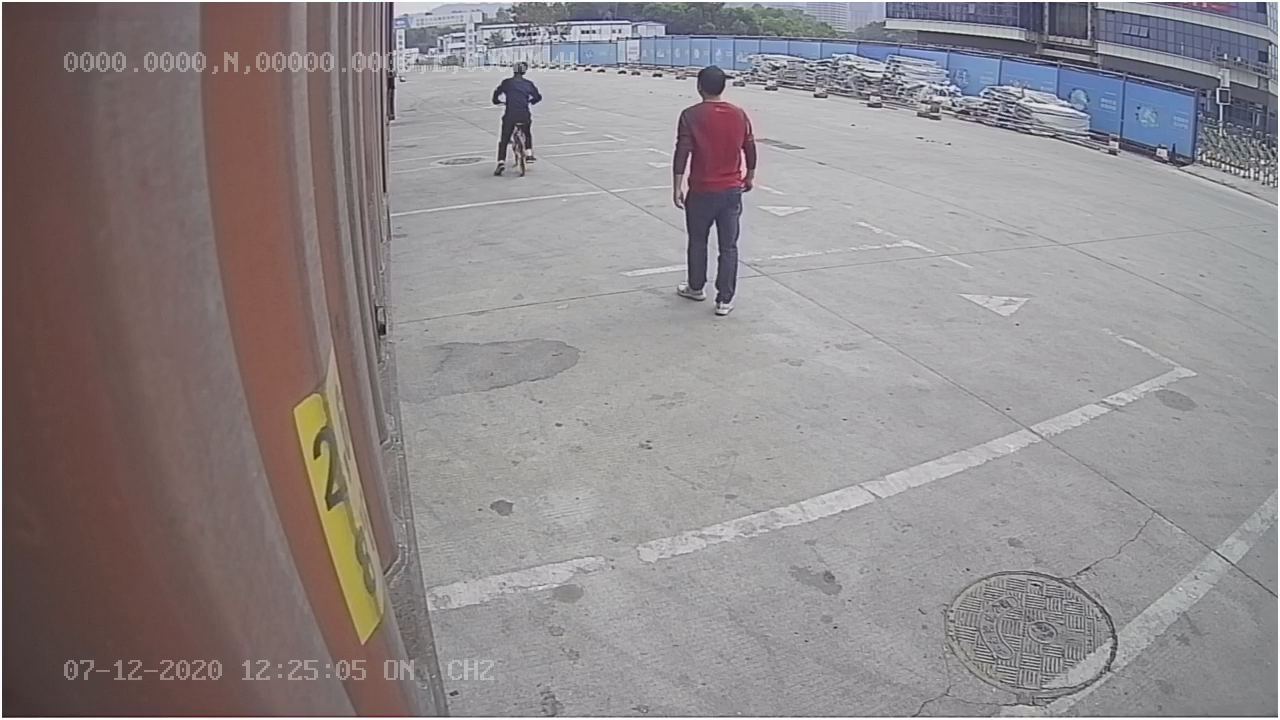person: (668, 62, 761, 321)
